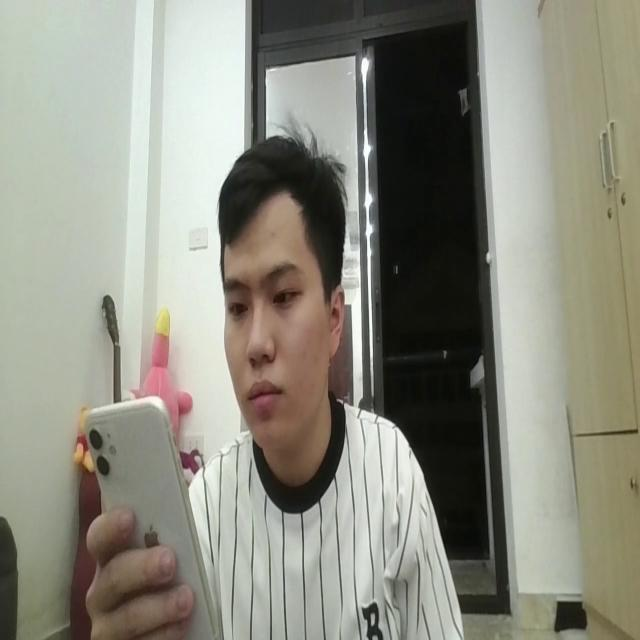phone: (81, 393, 221, 640)
student: (184, 135, 464, 640)
